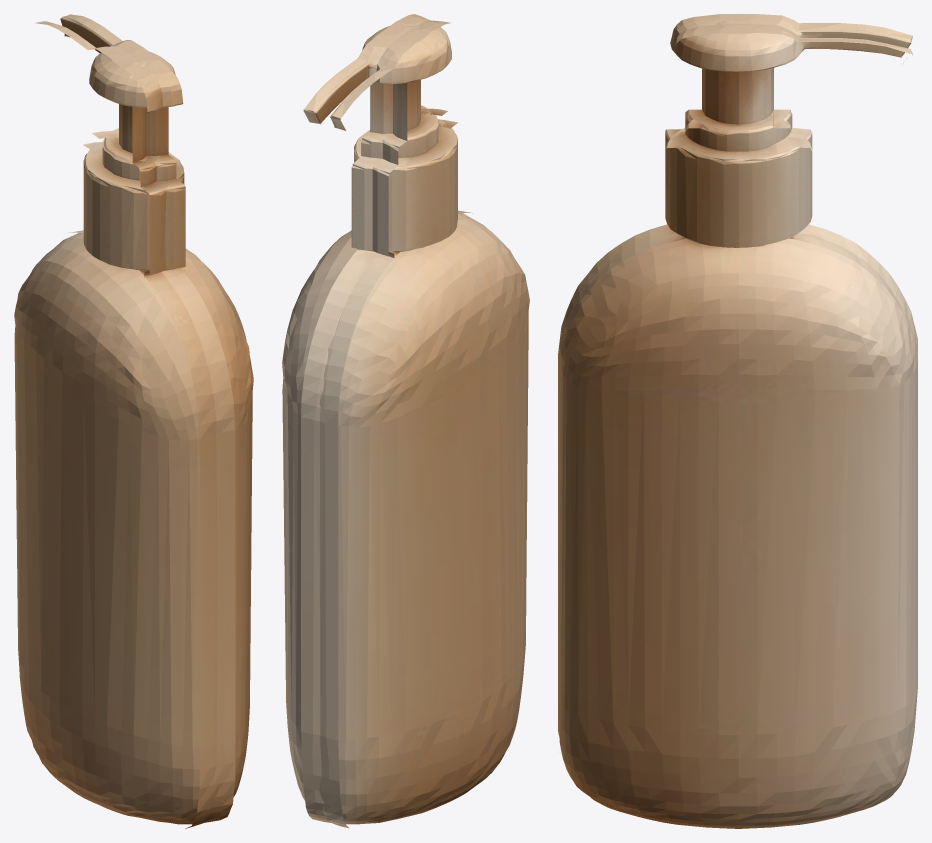
The model's file is pump-cut.glb.
The picture shows the model from 3 angles, left to right: view 1: azimuth 30°, elevation 25°; view 2: azimuth 150°, elevation 25°; view 3: azimuth 270°, elevation 25°; orthographic projection. The views are drawn at different scales.
Parts seen in each view (by area): view 1: pump_tripo_node_7e5f03ed-7218-4496-9a2e-e518f0fe9ced_right, pump_tripo_node_7e5f03ed-7218-4496-9a2e-e518f0fe9ced_left; view 2: pump_tripo_node_7e5f03ed-7218-4496-9a2e-e518f0fe9ced_right, pump_tripo_node_7e5f03ed-7218-4496-9a2e-e518f0fe9ced_left; view 3: pump_tripo_node_7e5f03ed-7218-4496-9a2e-e518f0fe9ced_left, pump_tripo_node_7e5f03ed-7218-4496-9a2e-e518f0fe9ced_right.
Boxes of the visible parts, x1,y1,x2,y2 form: pump_tripo_node_7e5f03ed-7218-4496-9a2e-e518f0fe9ced_right: (14,14,235,824); pump_tripo_node_7e5f03ed-7218-4496-9a2e-e518f0fe9ced_left: (35,21,253,828); pump_tripo_node_7e5f03ed-7218-4496-9a2e-e518f0fe9ced_right: (301,14,529,824); pump_tripo_node_7e5f03ed-7218-4496-9a2e-e518f0fe9ced_left: (282,20,472,828); pump_tripo_node_7e5f03ed-7218-4496-9a2e-e518f0fe9ced_left: (558,14,917,828); pump_tripo_node_7e5f03ed-7218-4496-9a2e-e518f0fe9ced_right: (559,22,917,370).
Size of the model in its own units: 0.2429 by 0.998 by 0.4199.
Materials: 2 (1 with a texture image).
